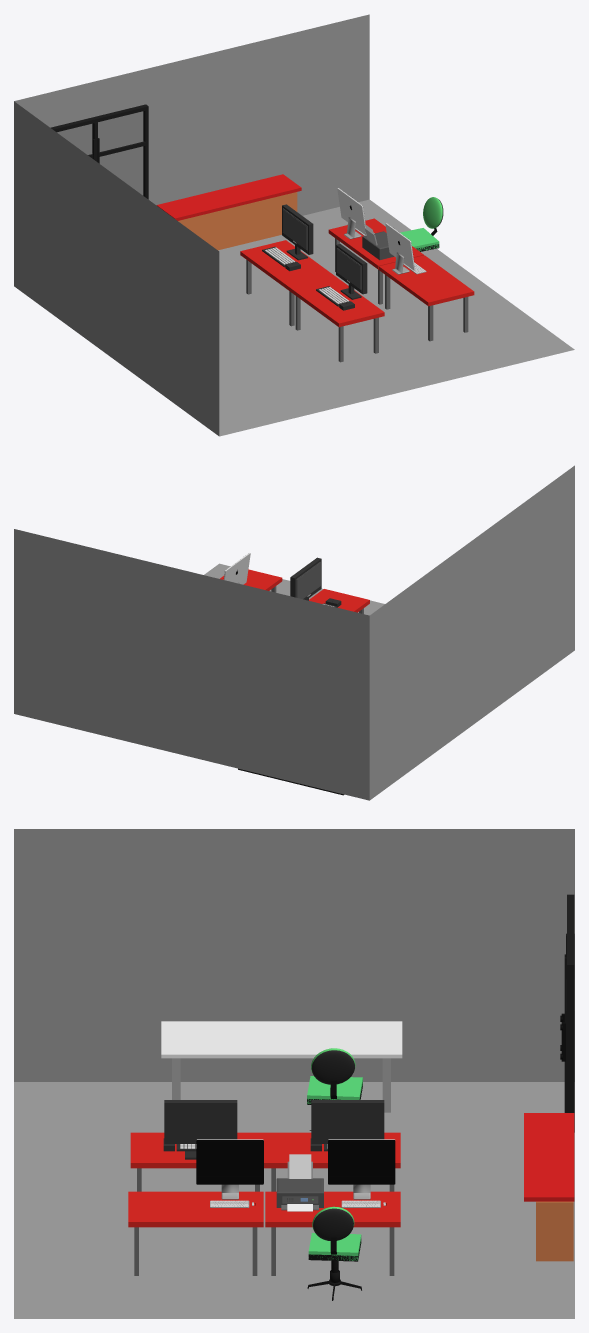
The model's file is lab incubator.glb.
3 renders of one model, top to bottom at view 1: azimuth 30°, elevation 25°; view 2: azimuth 150°, elevation 25°; view 3: azimuth 270°, elevation 25°, orthographic. The views are drawn at different scales.
Visible parts, largest first — view 1: Plane, Right Upper Glass, Kubus, Leg_2.002, Kubus.001, Leg_2.004, Leg_2.003, Leg_2.001, Cube.001, Cube.047, Plane.001, Screen Glass.001 (+3 smaller); view 2: Plane, Leg_2.004, Leg_2.002, Screen Glass.001, Cube.001; view 3: Plane, Leg_2.005, Leg_2.002, Kubus.001, Cube.047, Cube.001, Leg_2.001, Monitor Body.001, Monitor Body, Right Upper Glass, Kubus, Leg_2.004 (+6 smaller).
Part boxes in pixels (bbox=[...]): Plane: bbox=[14, 14, 574, 436]; Right Upper Glass: bbox=[50, 104, 148, 199]; Kubus: bbox=[178, 192, 297, 250]; Leg_2.002: bbox=[379, 255, 474, 341]; Kubus.001: bbox=[156, 174, 301, 220]; Leg_2.004: bbox=[289, 276, 384, 362]; Leg_2.003: bbox=[240, 240, 334, 326]; Leg_2.001: bbox=[328, 218, 423, 304]; Cube.001: bbox=[385, 223, 426, 274]; Cube.047: bbox=[337, 188, 374, 239]; Plane.001: bbox=[362, 224, 394, 260]; Screen Glass.001: bbox=[337, 249, 360, 289]; Plane: bbox=[14, 465, 574, 800]; Leg_2.004: bbox=[309, 589, 369, 613]; Leg_2.002: bbox=[220, 569, 282, 592]; Screen Glass.001: bbox=[297, 563, 320, 599]; Cube.001: bbox=[223, 553, 250, 584]; Plane: bbox=[14, 829, 574, 1318]; Leg_2.005: bbox=[161, 1021, 402, 1112]; Leg_2.002: bbox=[128, 1191, 263, 1275]; Kubus.001: bbox=[524, 1113, 574, 1201]; Cube.047: bbox=[328, 1139, 395, 1207]; Cube.001: bbox=[196, 1139, 263, 1207]; Leg_2.001: bbox=[265, 1191, 400, 1275]; Monitor Body.001: bbox=[164, 1100, 237, 1143]; Monitor Body: bbox=[311, 1100, 384, 1143]; Right Upper Glass: bbox=[560, 894, 574, 1132]; Kubus: bbox=[536, 1201, 573, 1261]; Leg_2.004: bbox=[130, 1132, 265, 1191].
Size of the model in its own units: 2 by 1.01 by 2.
